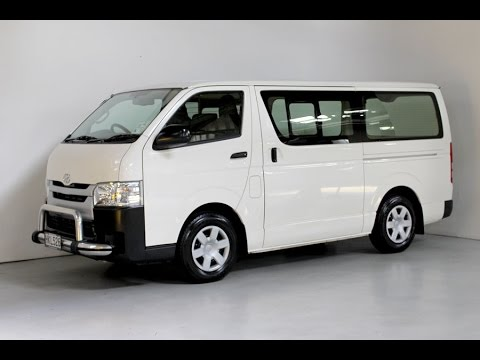van: (32, 80, 456, 284)
